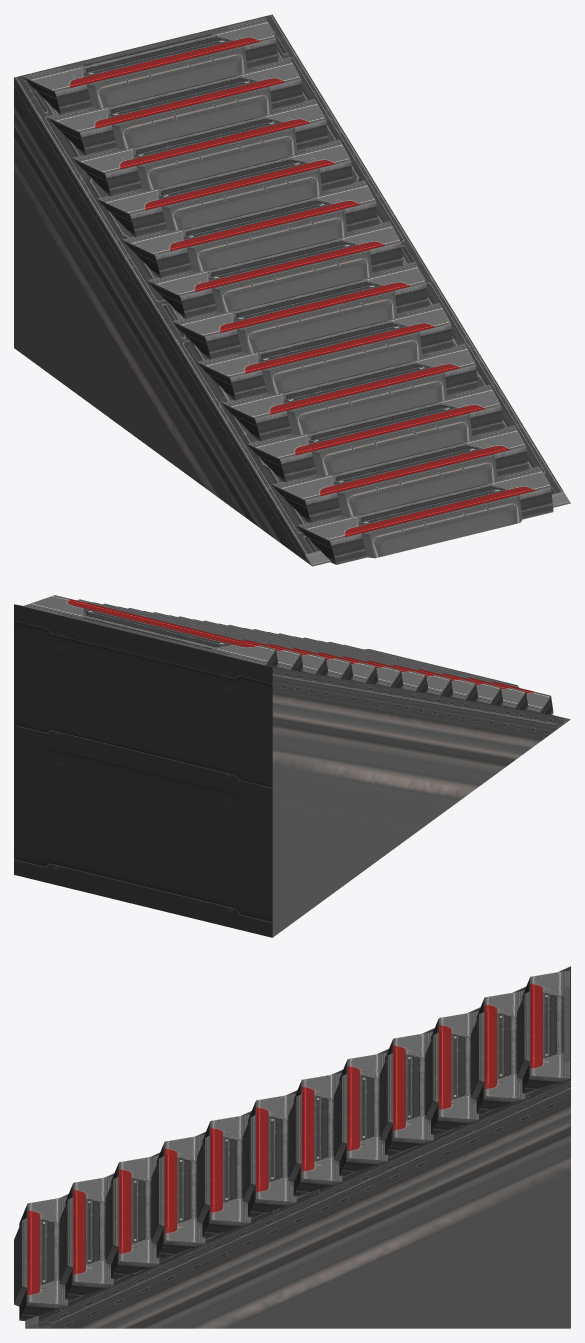
Rendered from Platform_Stairs_4.gltf.
3 views of the same model, one above another, from view 1: azimuth 30°, elevation 25°; view 2: azimuth 150°, elevation 25°; view 3: azimuth 270°, elevation 25° (orthographic). The views are drawn at different scales.
Parts seen in each view (by area): view 1: Platform_Stairs_4; view 2: Platform_Stairs_4; view 3: Platform_Stairs_4.
Boxes of the visible parts, left/top/right/bottom form: Platform_Stairs_4: left=14, top=14, right=570, bottom=566; Platform_Stairs_4: left=14, top=595, right=570, bottom=937; Platform_Stairs_4: left=14, top=966, right=570, bottom=1328.
Bounding box in the file's own units: 2 × 2.01 × 4.08.
Materials: 2 (2 with a texture image).
